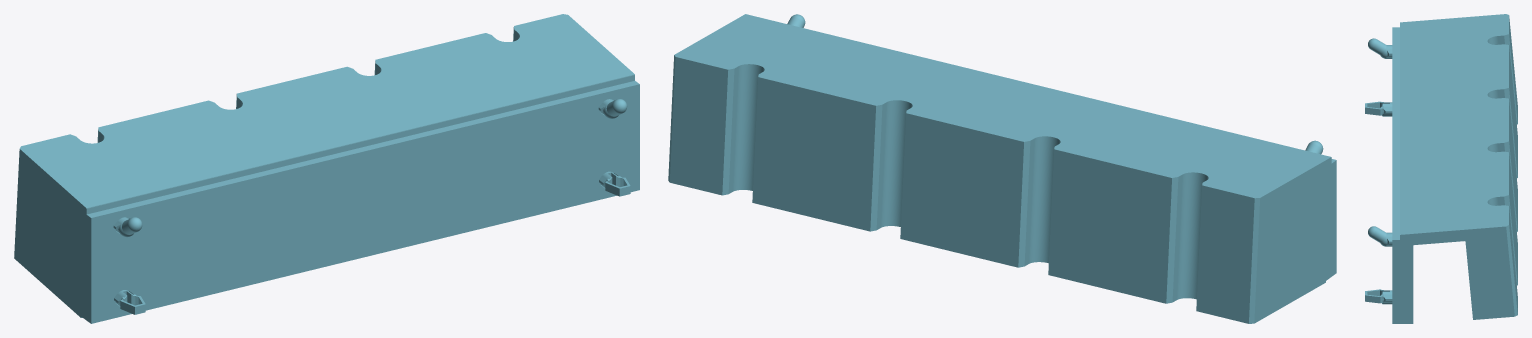
Rendered from part-mh03__current-mounts-v1__fit-pf02c9-hoop5__installed.glb.
3 renders of one model, left to right at view 1: azimuth 30°, elevation 25°; view 2: azimuth 150°, elevation 25°; view 3: azimuth 270°, elevation 25°, orthographic. The views are drawn at different scales.
Parts seen in each view (by area): view 1: installed.stl; view 2: installed.stl; view 3: installed.stl.
Part boxes in pixels (x1=…): installed.stl: x1=14, y1=14, x2=639, y2=323; installed.stl: x1=668, y1=14, x2=1336, y2=323; installed.stl: x1=1365, y1=14, x2=1517, y2=323.
Bounding box in the file's own units: 0.2012 × 0.0437 × 0.0611.
